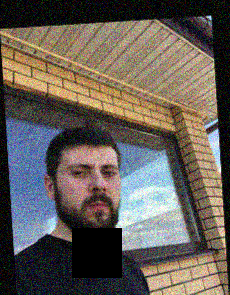without_mask: (55, 154, 124, 239)
